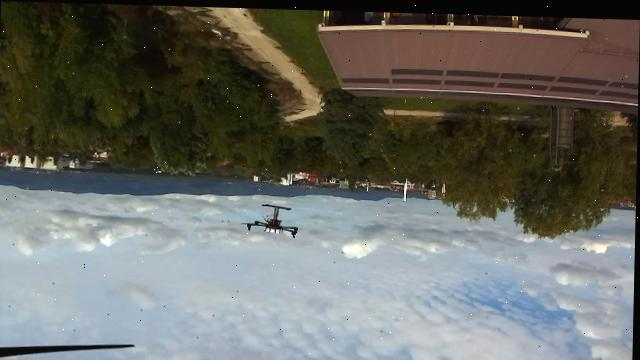drone: (235, 187, 313, 244)
